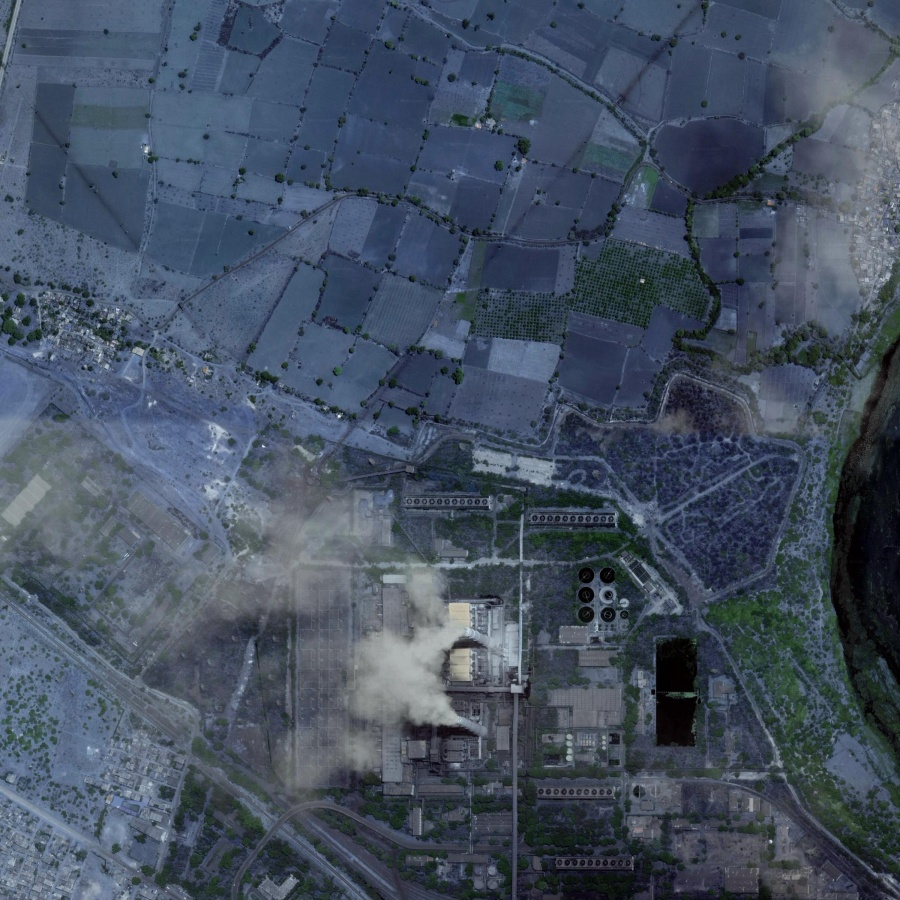PowerPlant: (298, 487, 570, 807)
